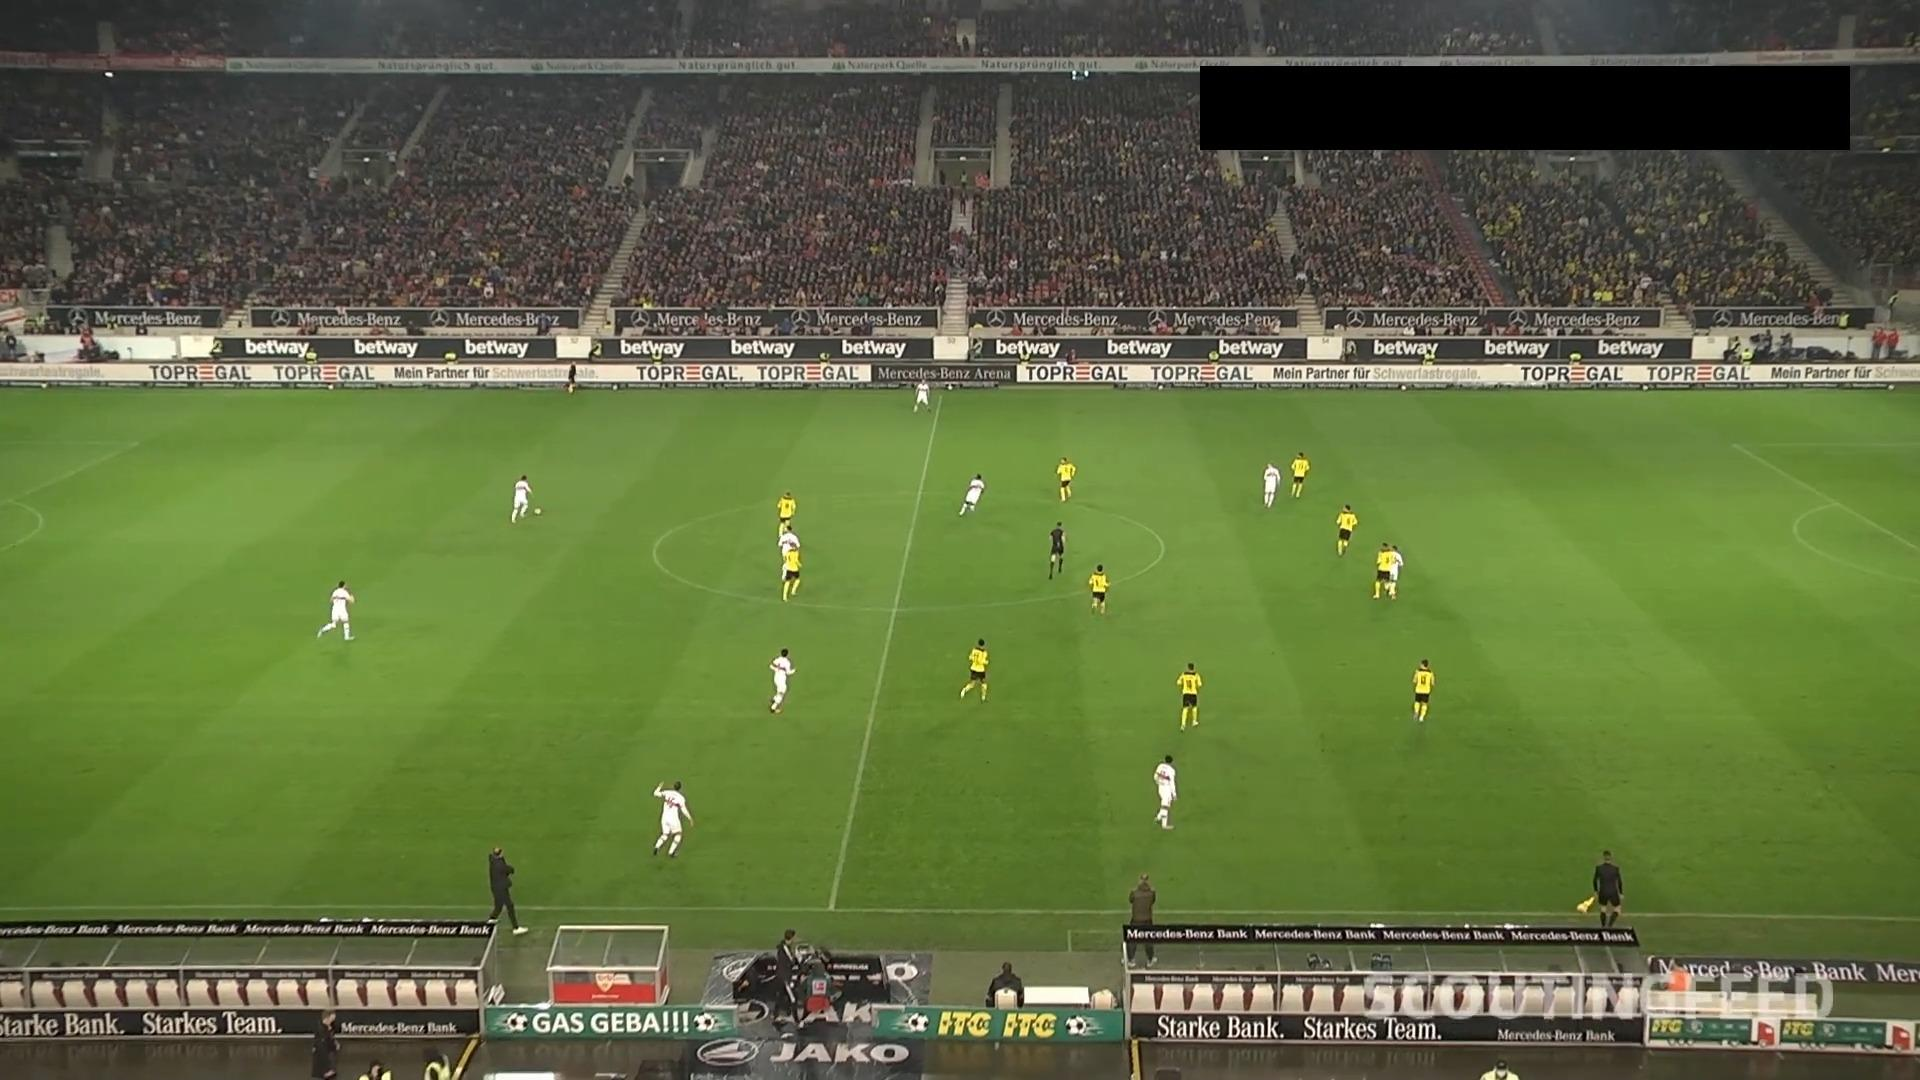ball: (534, 508, 542, 516)
